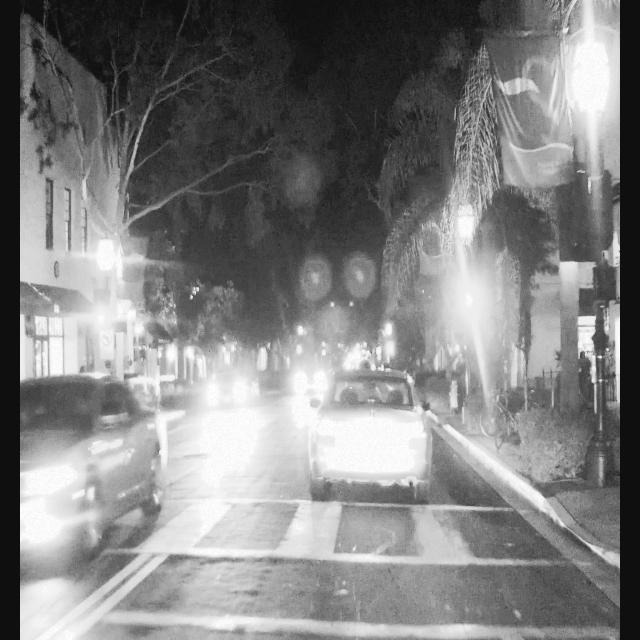Light: (462, 267, 476, 311), (97, 291, 108, 325)
Tree: (529, 0, 594, 476)
